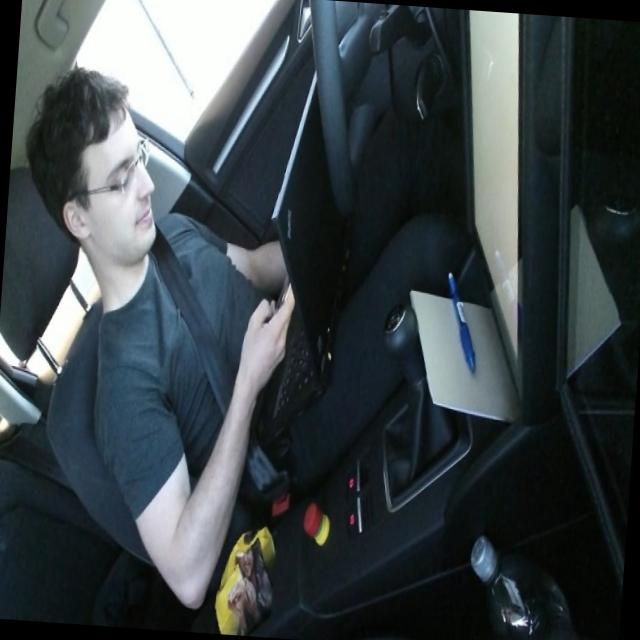pen: (440, 269, 482, 374)
